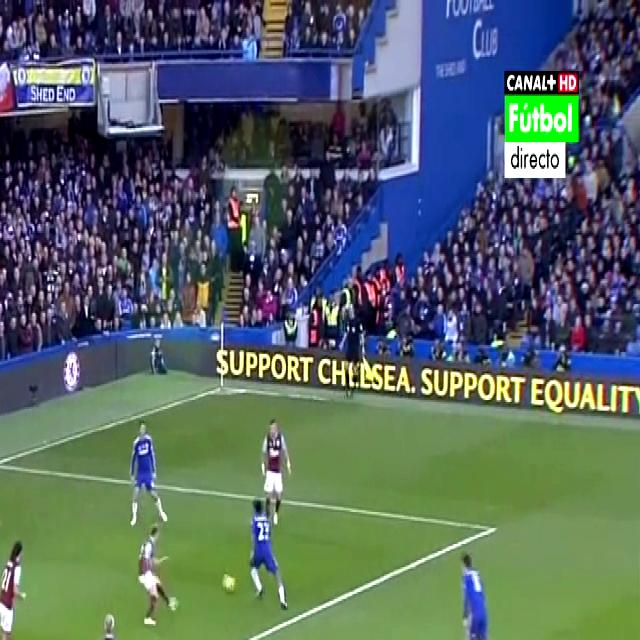ball: (222, 561, 241, 604)
referee: (334, 288, 368, 405), (90, 602, 132, 640)
soccer-player: (443, 542, 524, 640), (131, 517, 193, 640), (246, 492, 291, 624), (124, 417, 172, 527), (261, 411, 296, 513), (0, 538, 31, 640), (0, 452, 1, 576)
